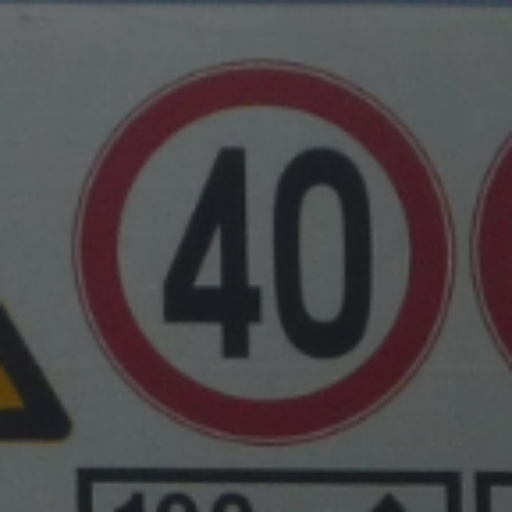Speed limit: (63, 91, 461, 405)
